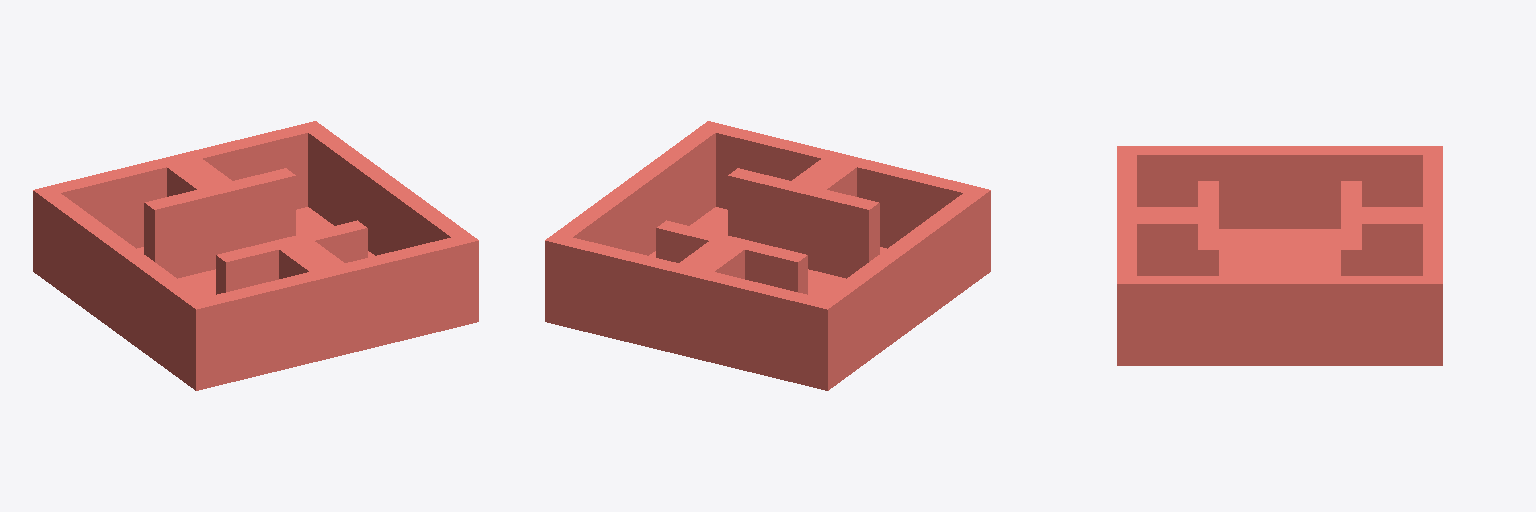
3 renders of one model, left to right at view 1: azimuth 30°, elevation 25°; view 2: azimuth 150°, elevation 25°; view 3: azimuth 270°, elevation 25°, orthographic.
Parts seen in each view (by area): view 1: Grid.024_Grid.029; view 2: Grid.024_Grid.029; view 3: Grid.024_Grid.029.
Part boxes in pixels (bbox=[...]): Grid.024_Grid.029: bbox=[33, 121, 478, 390]; Grid.024_Grid.029: bbox=[545, 121, 990, 390]; Grid.024_Grid.029: bbox=[1117, 146, 1442, 365].
Bounding box in the file's own units: 14 × 3.85 × 14.
1 materials, 1 textured.